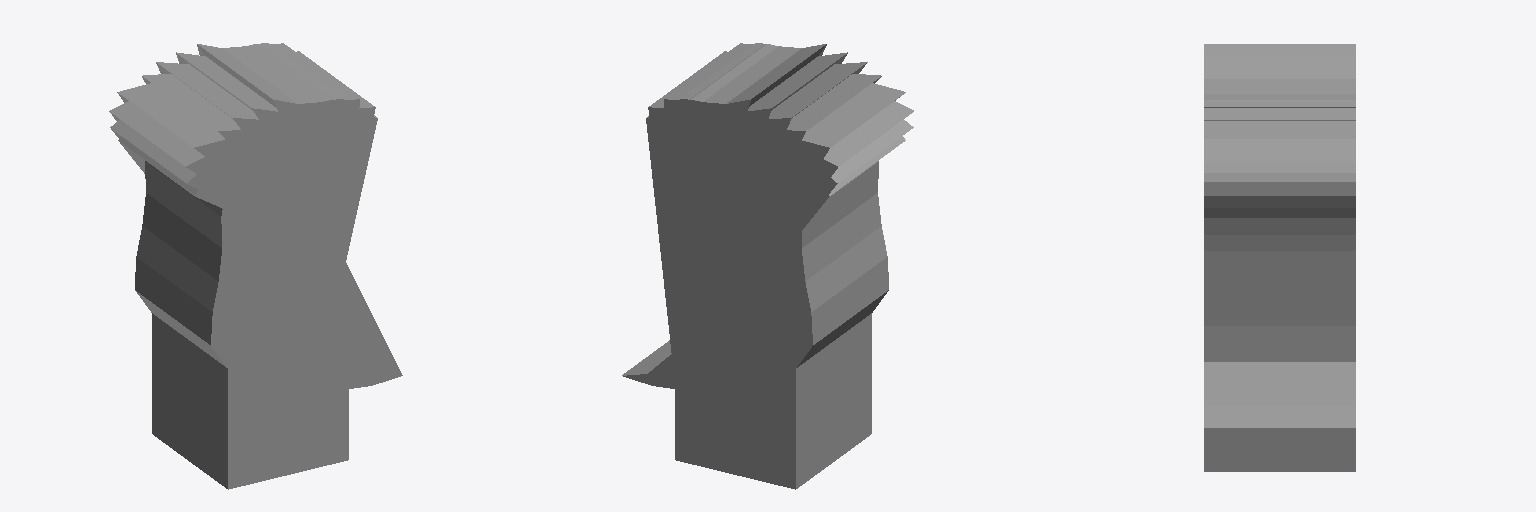
The model's file is keyleth.obj.
3 renders of one model, left to right at view 1: azimuth 30°, elevation 25°; view 2: azimuth 150°, elevation 25°; view 3: azimuth 270°, elevation 25°, orthographic.
Parts seen in each view (by area): view 1: Plane.000; view 2: Plane.000; view 3: Plane.000.
Part boxes in pixels (bbox=[...]): Plane.000: bbox=[109, 43, 402, 489]; Plane.000: bbox=[622, 43, 913, 489]; Plane.000: bbox=[1204, 44, 1355, 471].
Bounding box in the file's own units: 0.7966 × 1.33 × 0.4836.